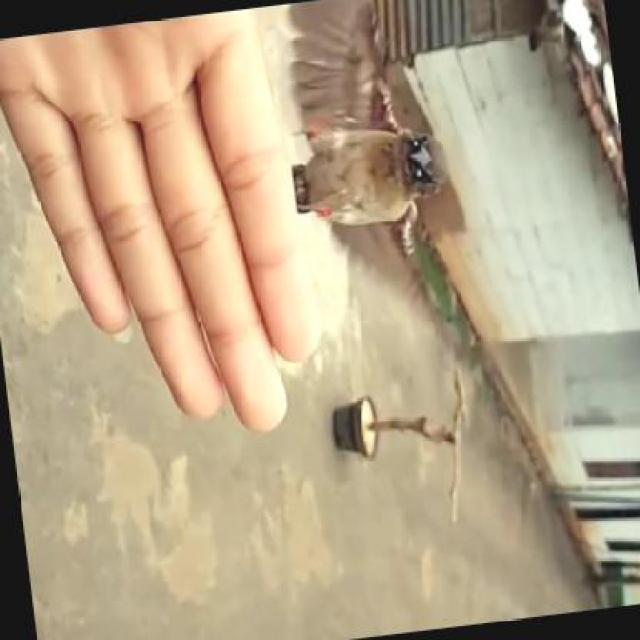Bird: (282, 119, 445, 235)
